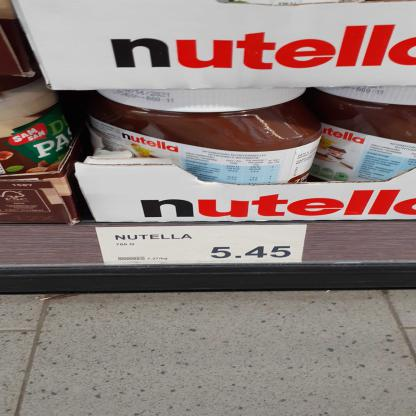prtg: (97, 226, 307, 266)
